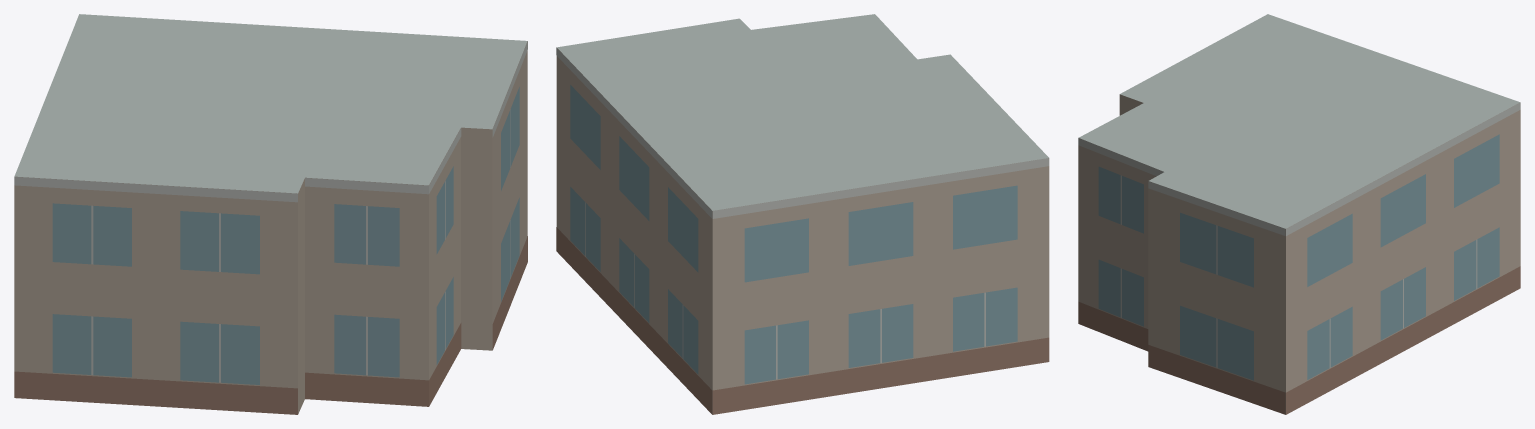
The model's file is survey-upis-32940838.glb.
3 renders of one model, left to right at view 1: azimuth 30°, elevation 25°; view 2: azimuth 150°, elevation 25°; view 3: azimuth 270°, elevation 25°, orthographic. The views are drawn at different scales.
Parts seen in each view (by area): view 1: survey-upis-32940838.tmp; view 2: survey-upis-32940838.tmp; view 3: survey-upis-32940838.tmp.
Boxes of the visible parts, <box> form: survey-upis-32940838.tmp: <box>14,14,527,414</box>; survey-upis-32940838.tmp: <box>556,14,1049,414</box>; survey-upis-32940838.tmp: <box>1078,14,1520,414</box>.
Size of the model in its own units: 15.12 by 6.1 by 13.15.
